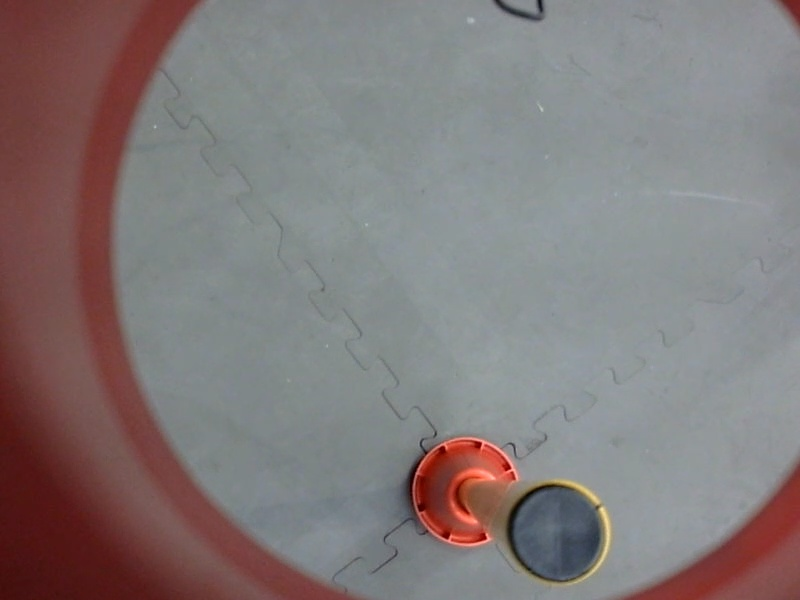tip: (498, 475, 617, 590)
